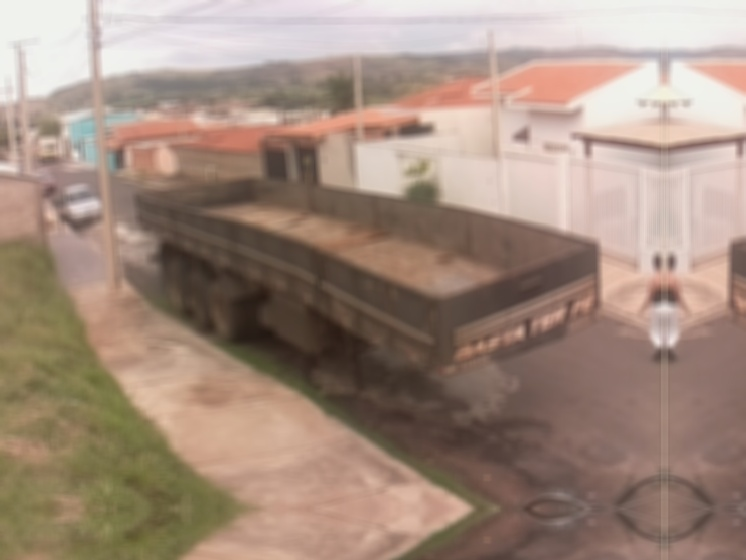person: (640, 249, 689, 364)
